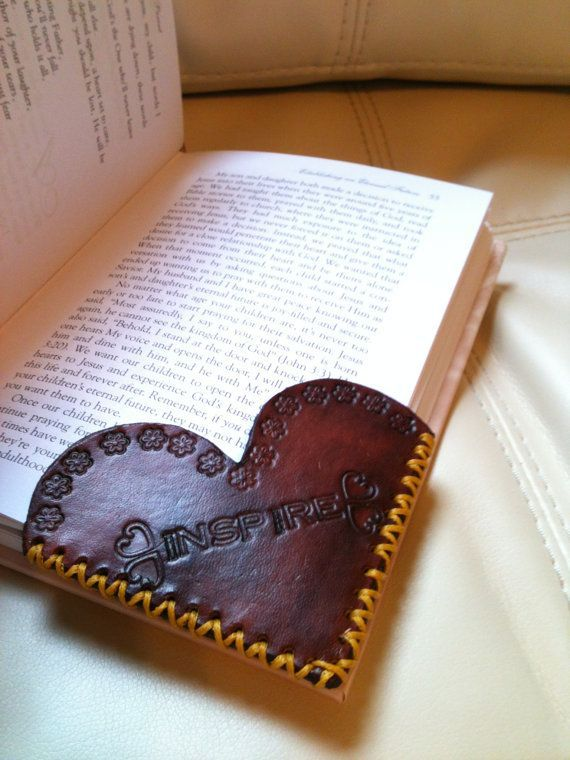cuero: (24, 377, 437, 692)
